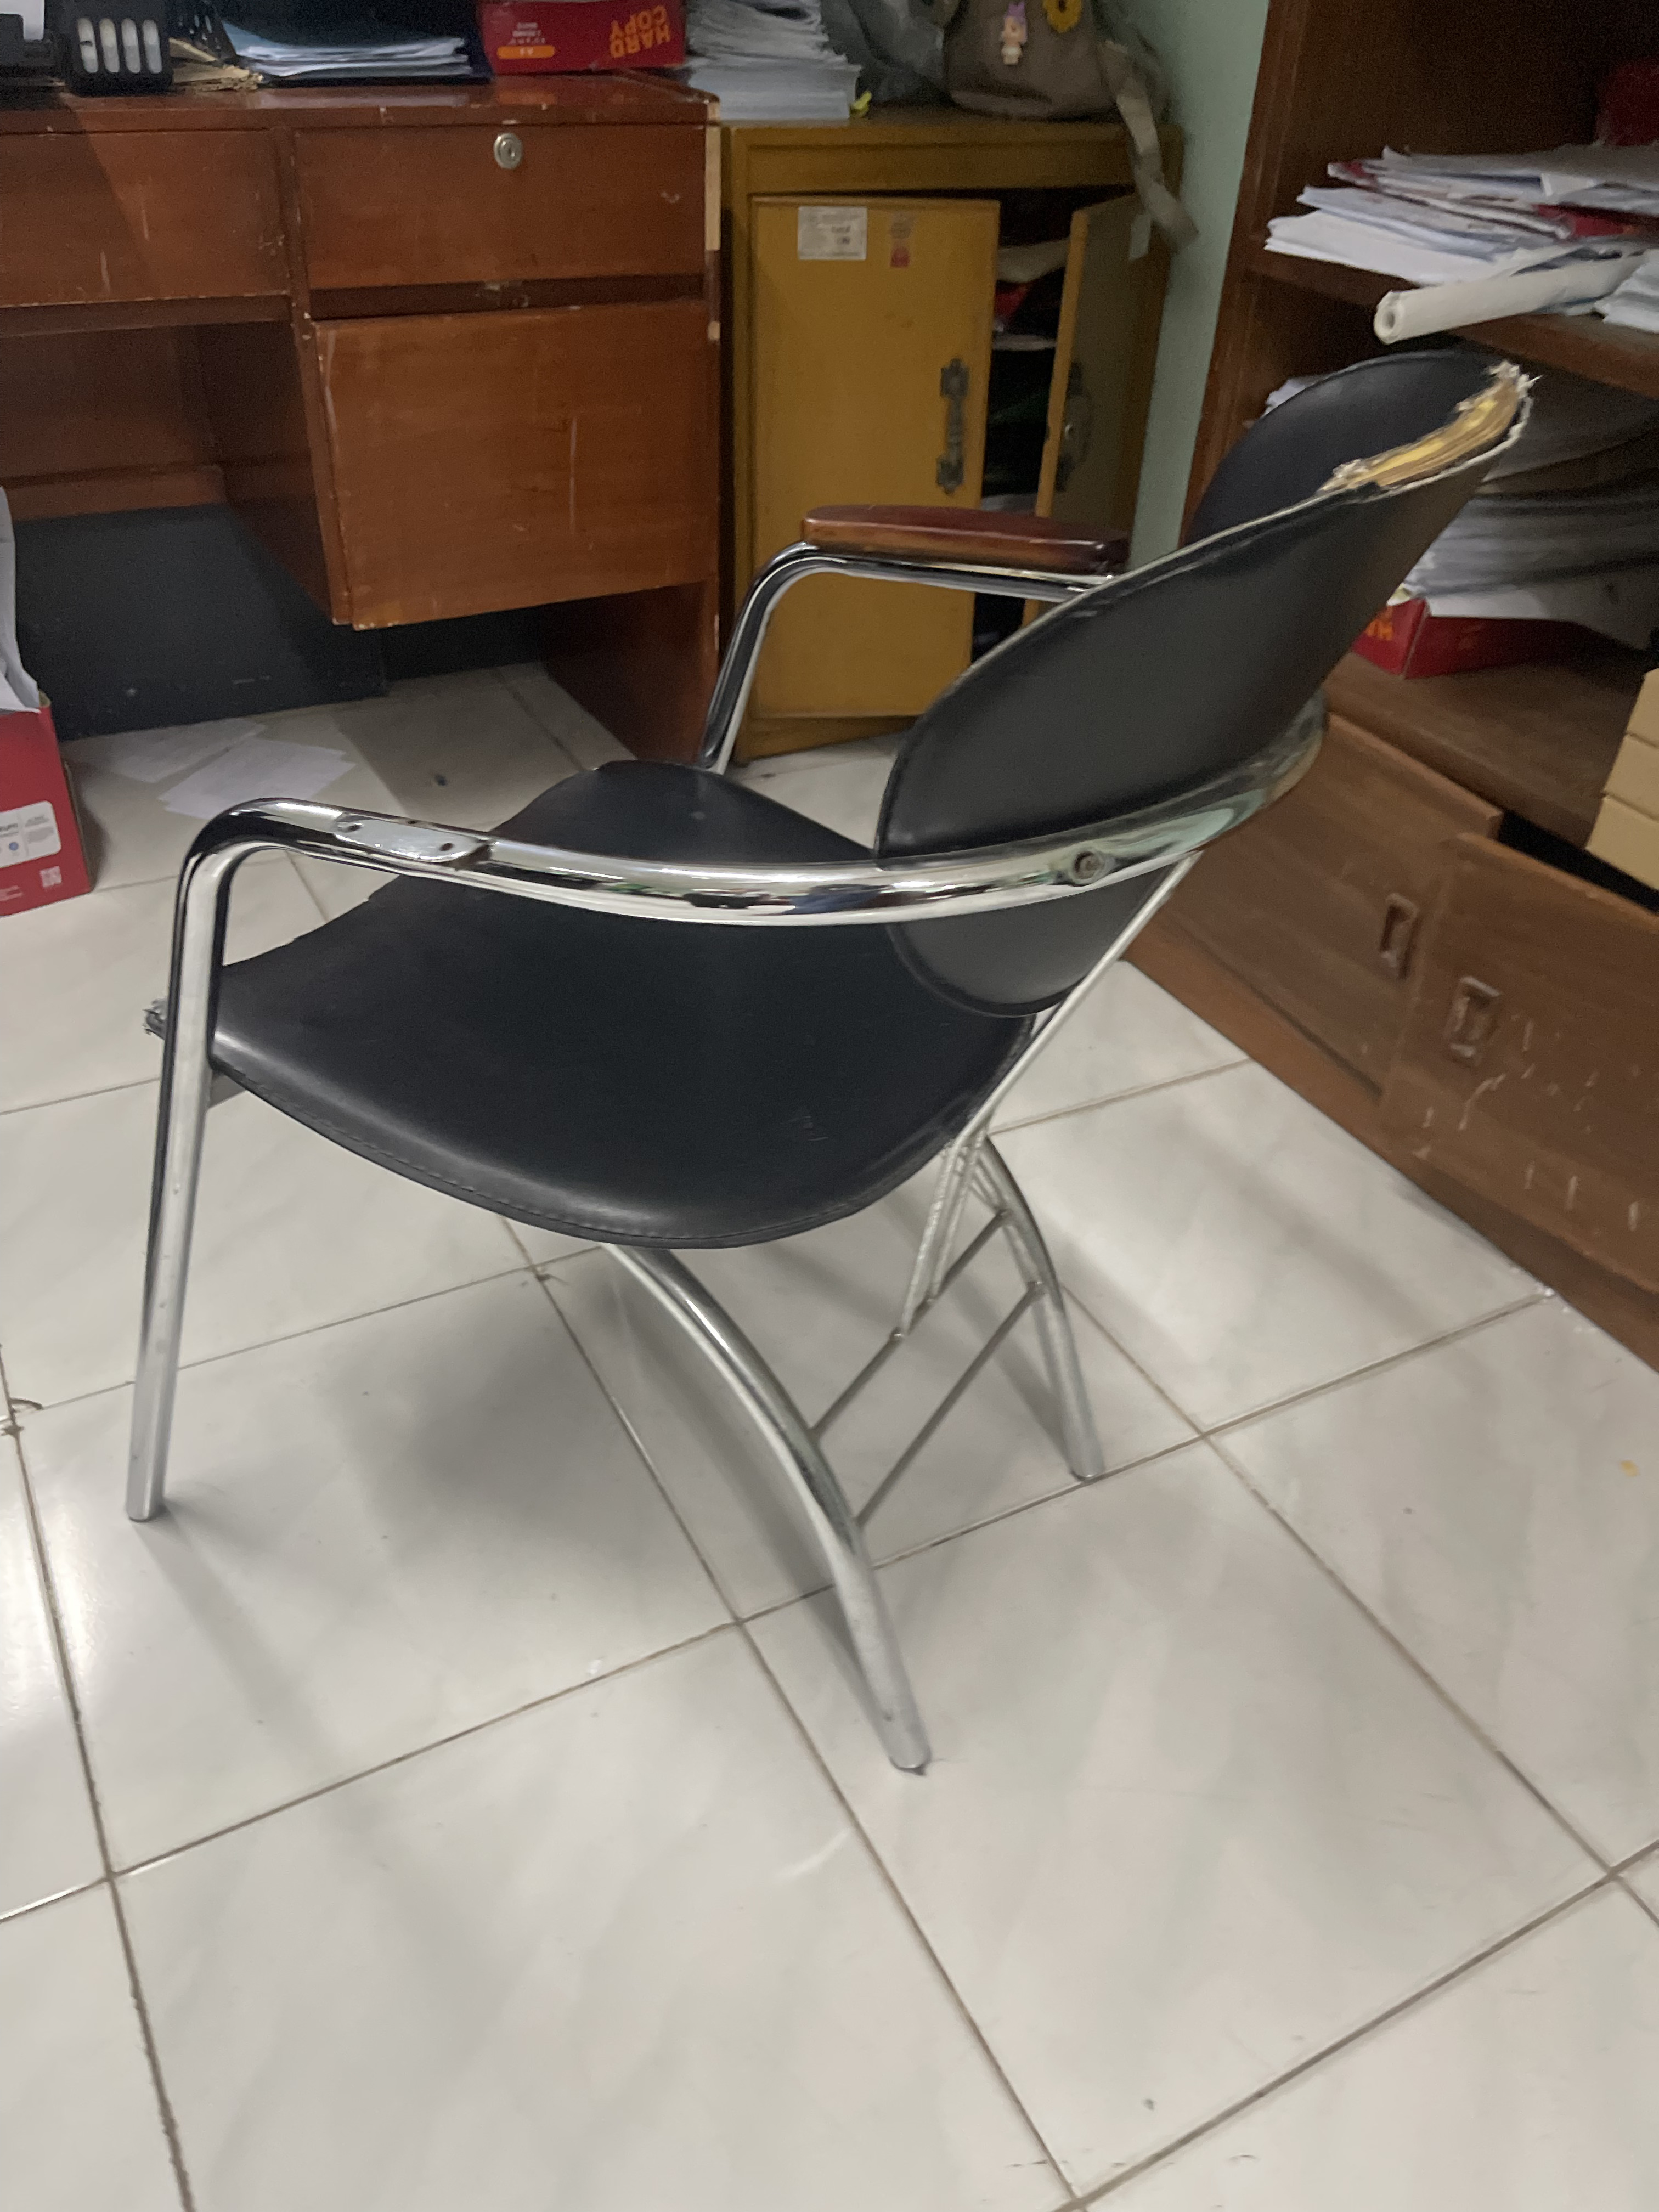chair1: (120, 340, 1541, 1785)
